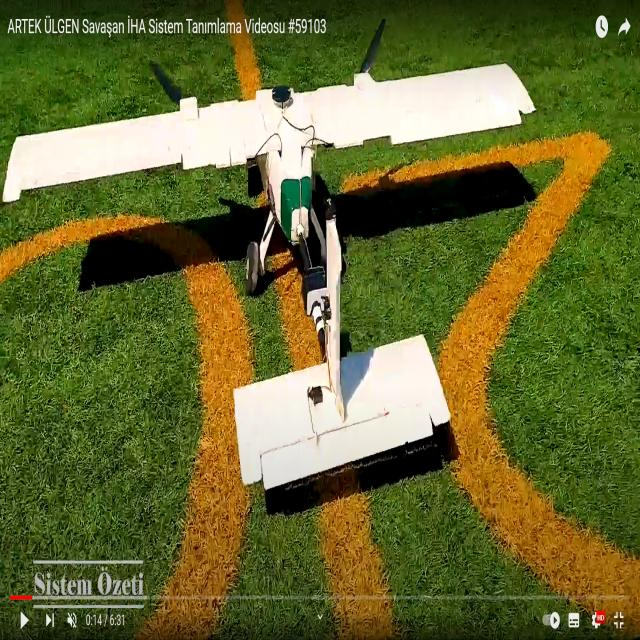iha: (4, 60, 537, 491)
